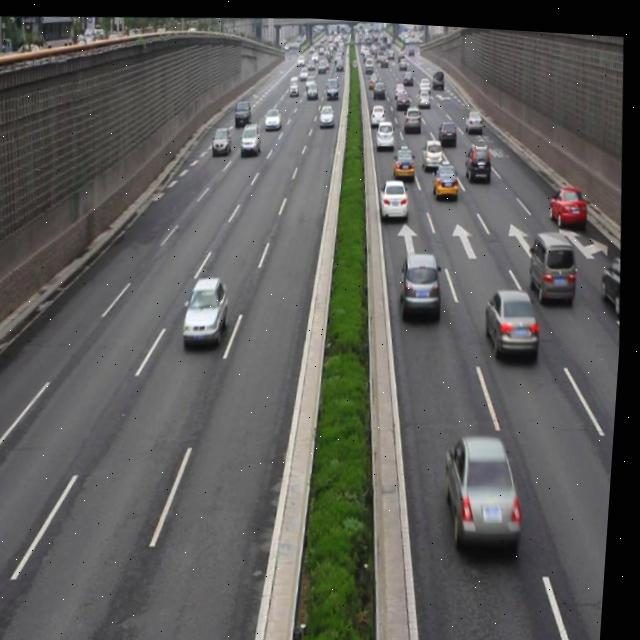car: (444, 424, 532, 547), (486, 279, 544, 354), (184, 271, 236, 346), (401, 246, 447, 314), (549, 176, 589, 224), (599, 247, 627, 310), (380, 172, 412, 218), (463, 134, 494, 177), (432, 155, 461, 193), (420, 131, 446, 169), (393, 141, 419, 176), (240, 117, 262, 154), (374, 114, 397, 146), (212, 123, 235, 155), (438, 112, 460, 143)
truck: (529, 220, 580, 298)
